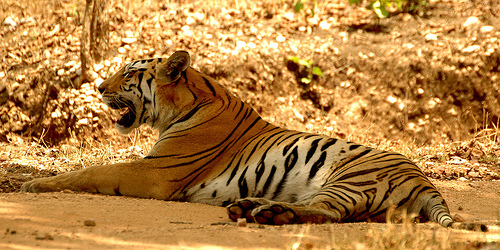Tigre: (73, 44, 467, 242)
